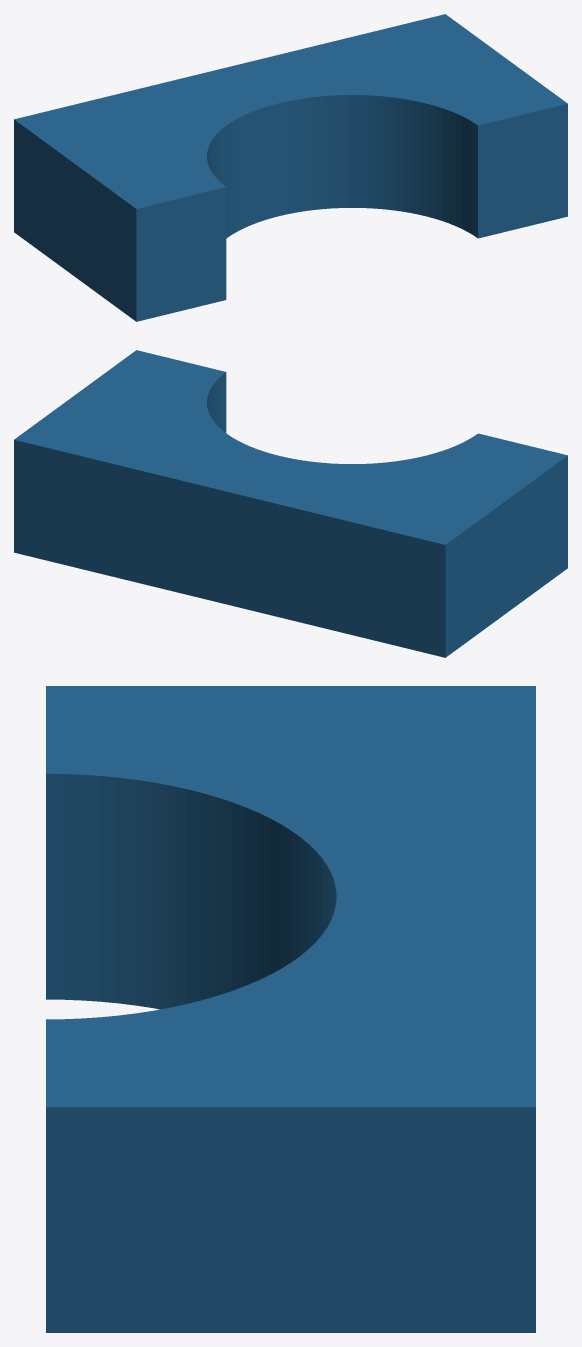
Rendered from BigArchB.fbx.
The picture shows the model from 3 angles, top to bottom: view 1: azimuth 30°, elevation 25°; view 2: azimuth 150°, elevation 25°; view 3: azimuth 270°, elevation 25°; orthographic projection. The views are drawn at different scales.
Parts seen in each view (by area): view 1: BigArchB; view 2: BigArchB; view 3: BigArchB.
Part boxes in pixels (<box>): BigArchB: <box>14,14,567,321</box>; BigArchB: <box>14,350,567,657</box>; BigArchB: <box>46,686,535,1332</box>.
Bounding box in the file's own units: 2400 × 600 × 1180.
